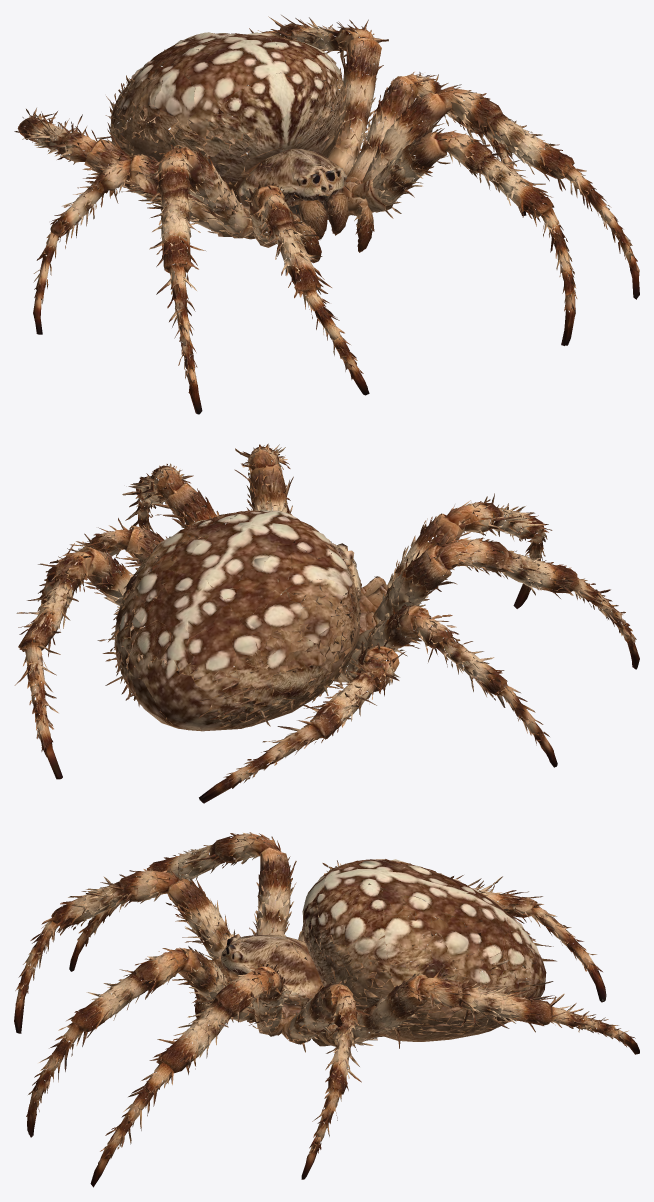
File: spider.glb
The picture shows the model from 3 angles, top to bottom: view 1: azimuth 30°, elevation 25°; view 2: azimuth 150°, elevation 25°; view 3: azimuth 270°, elevation 25°; orthographic projection. The views are drawn at different scales.
Visible parts, largest first — view 1: Mesh_0; view 2: Mesh_0; view 3: Mesh_0.
Boxes of the visible parts, box(x1,y1,x2,y2) form: Mesh_0: box(14, 15, 639, 414); Mesh_0: box(14, 443, 639, 803); Mesh_0: box(14, 832, 639, 1187).
Bounding box in the file's own units: 1.71 × 0.6793 × 1.9.
1 material, 1 textured.
